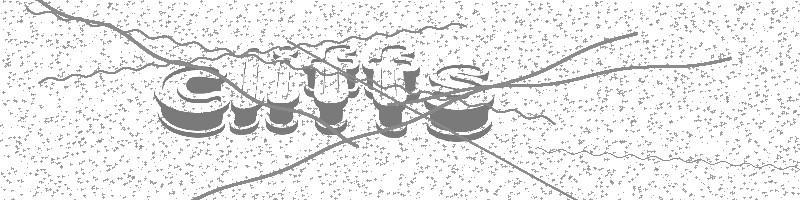c: (153, 65, 230, 139)
f: (360, 44, 421, 139), (301, 42, 360, 136)
i: (265, 44, 301, 136)
l: (231, 45, 262, 136)
s: (424, 64, 495, 143)
